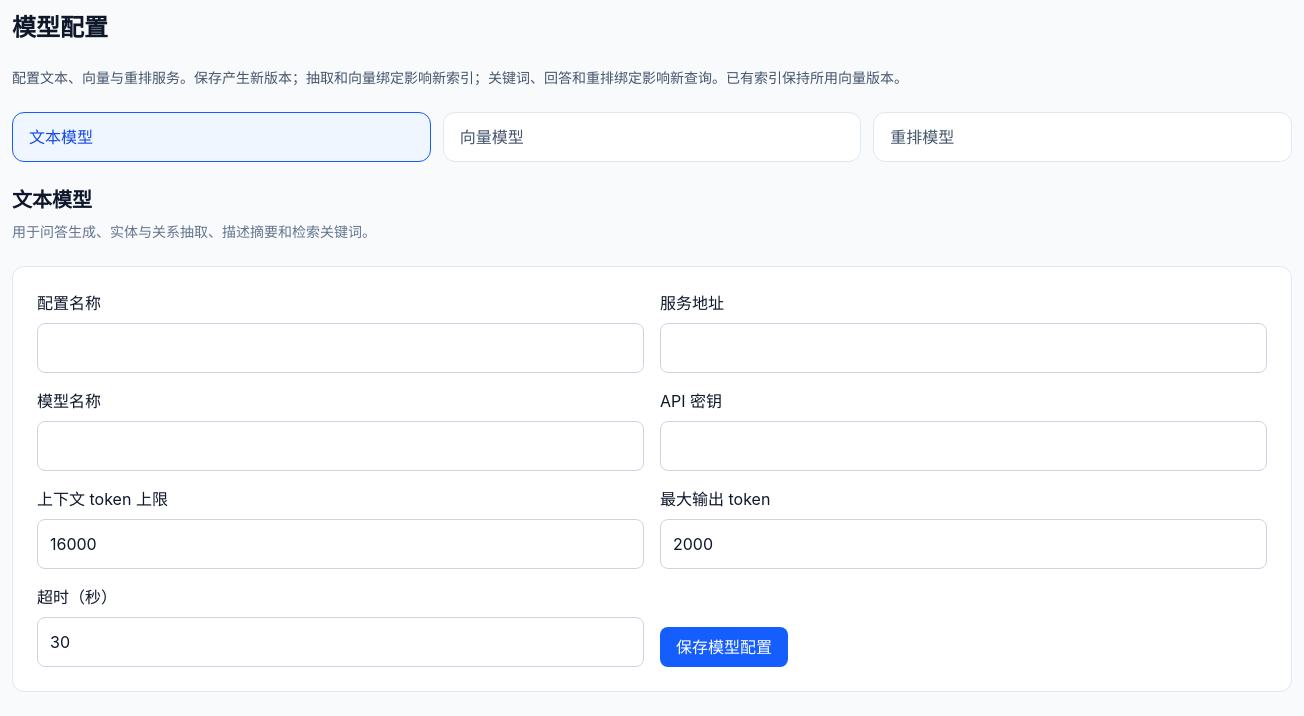
Test: creates a EMBEDDING configuration within its own category
Step 1. Click the button "向量模型" → point(492, 137), box x1=443 y1=112 x2=861 y2=162
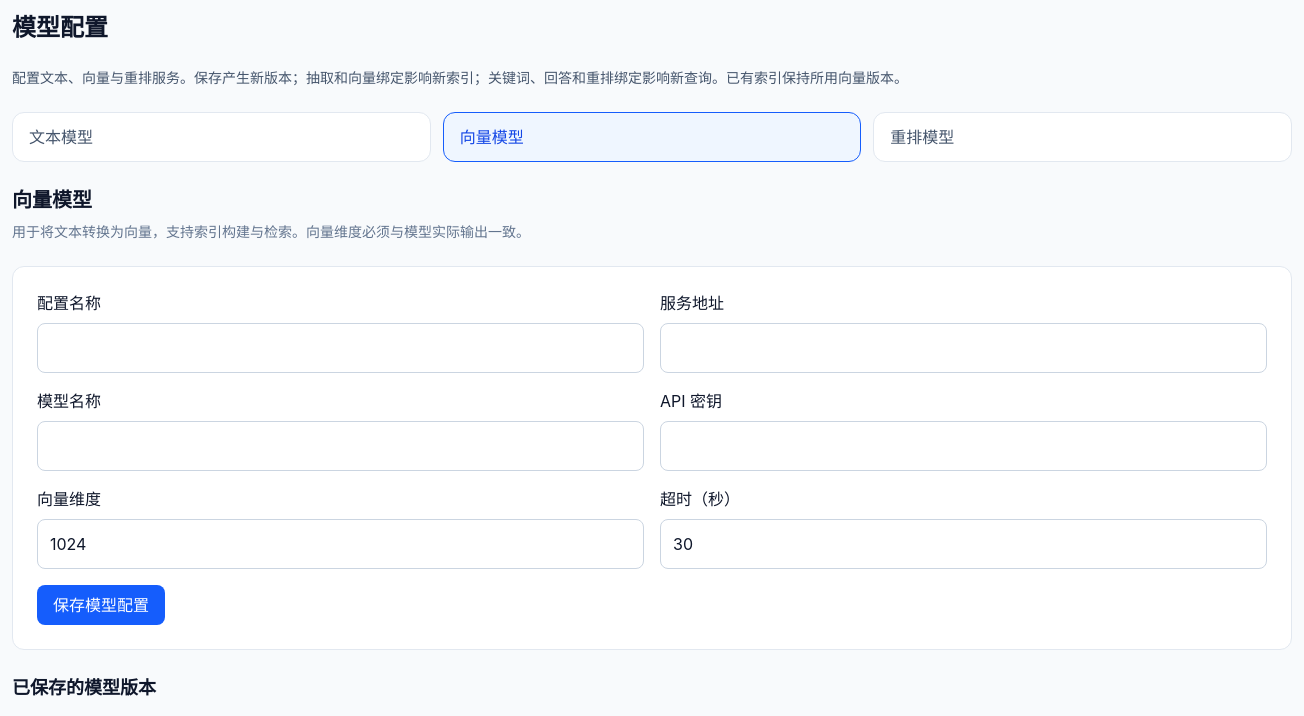
Step 2. Type "新配置" into the field labelled "配置名称" → point(340, 348), box x1=37 y1=323 x2=644 y2=373
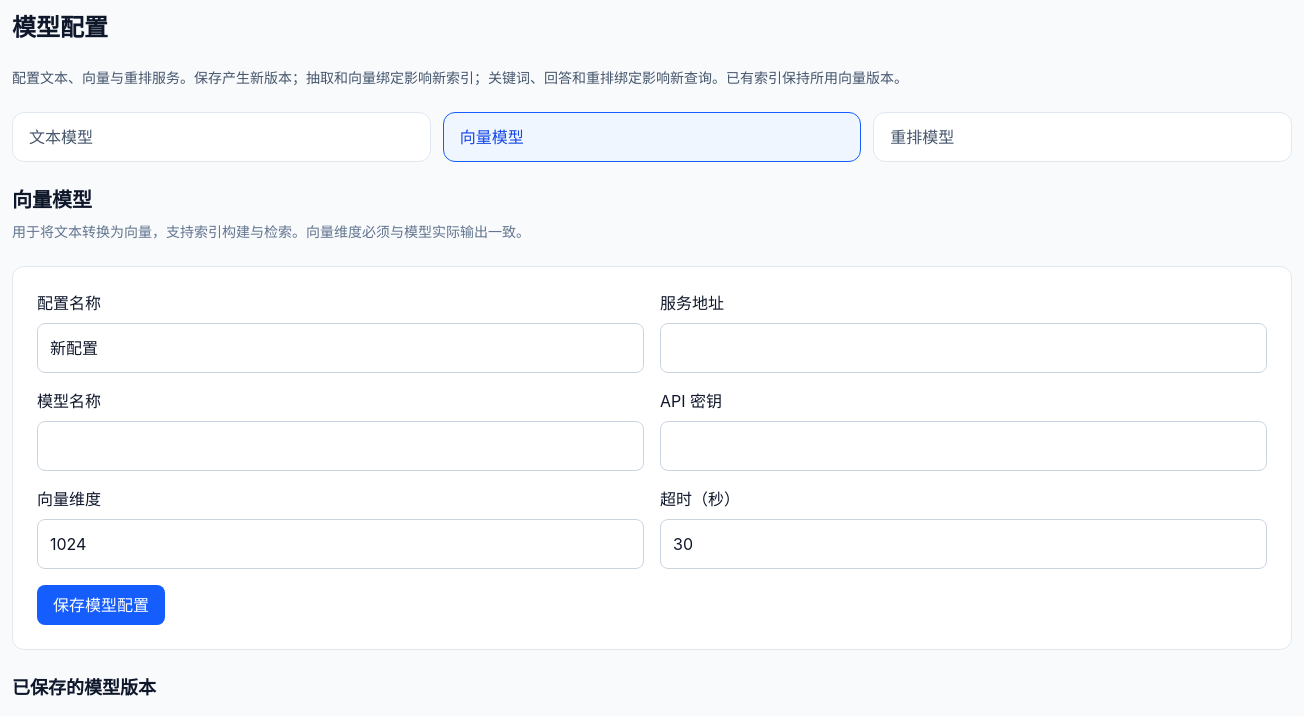
Step 3. Type "https://example.com/v1" into the field labelled "服务地址" → point(964, 348), box x1=660 y1=323 x2=1267 y2=373
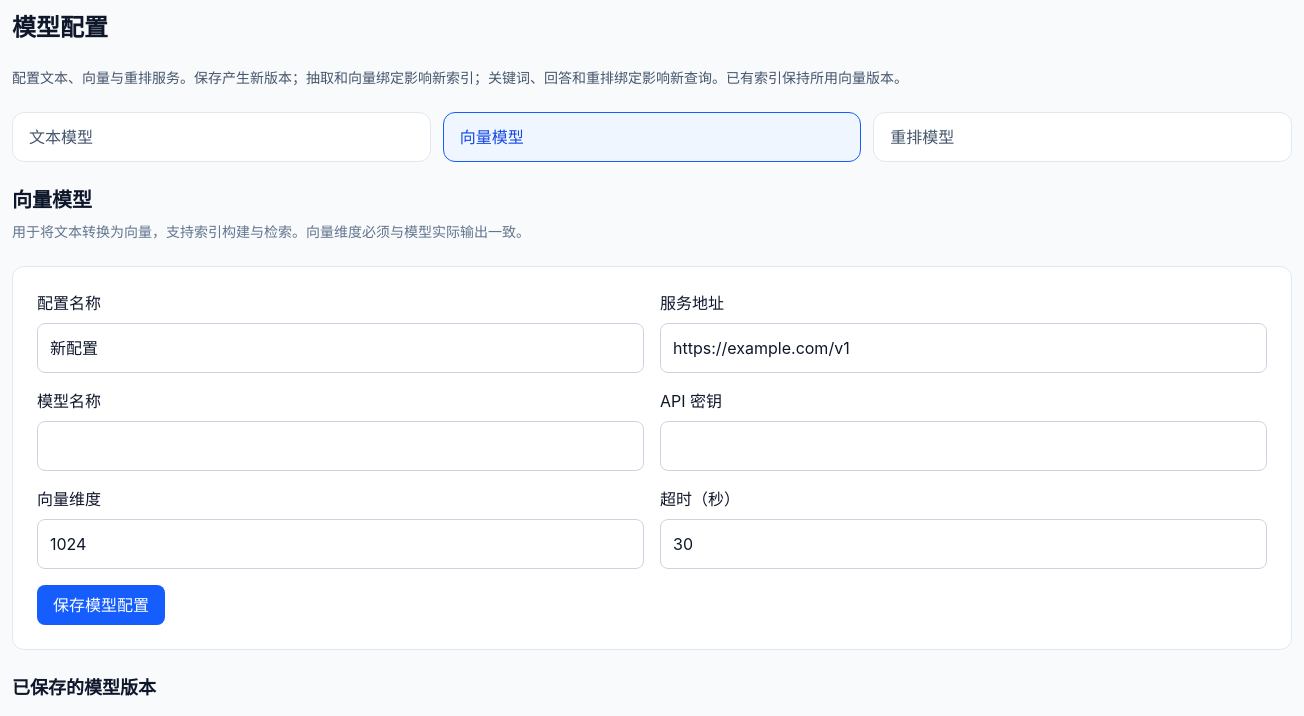
Step 4. Type "example" into the field labelled "模型名称" → point(340, 446), box x1=37 y1=421 x2=644 y2=471
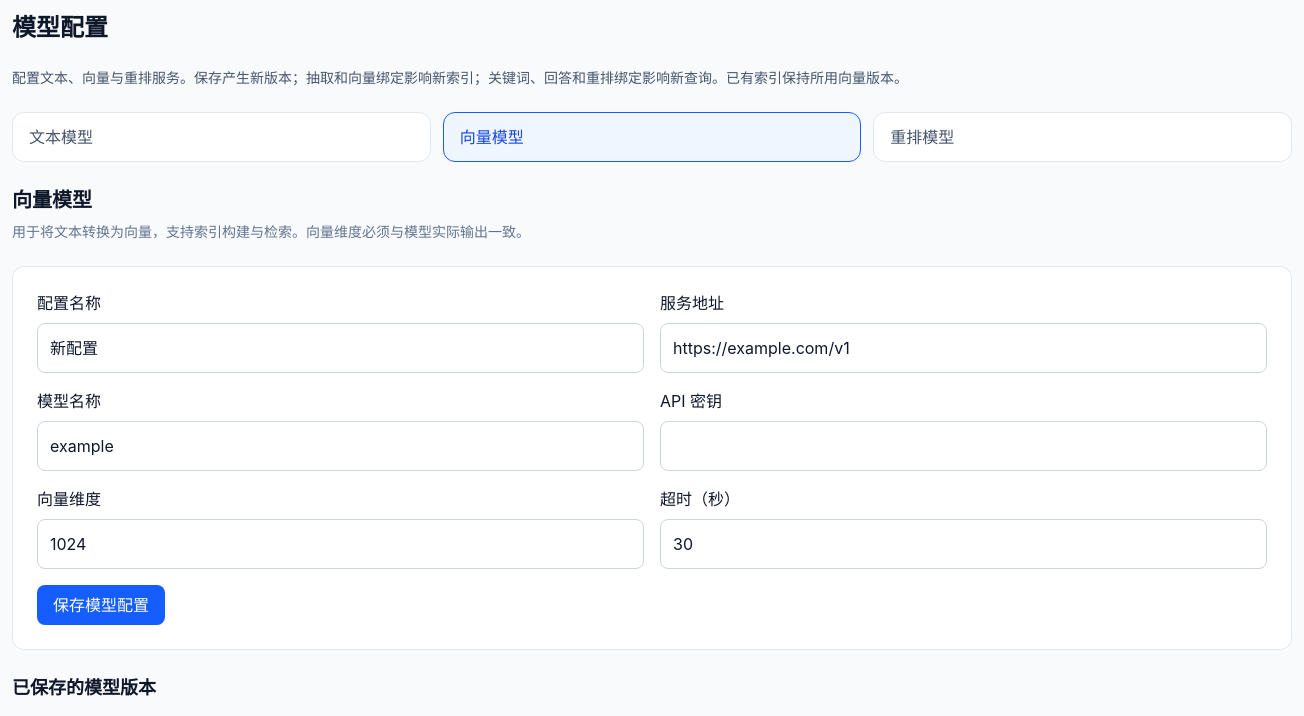
Step 5. Click the button "保存模型配置" → point(101, 605), box x1=37 y1=585 x2=165 y2=625
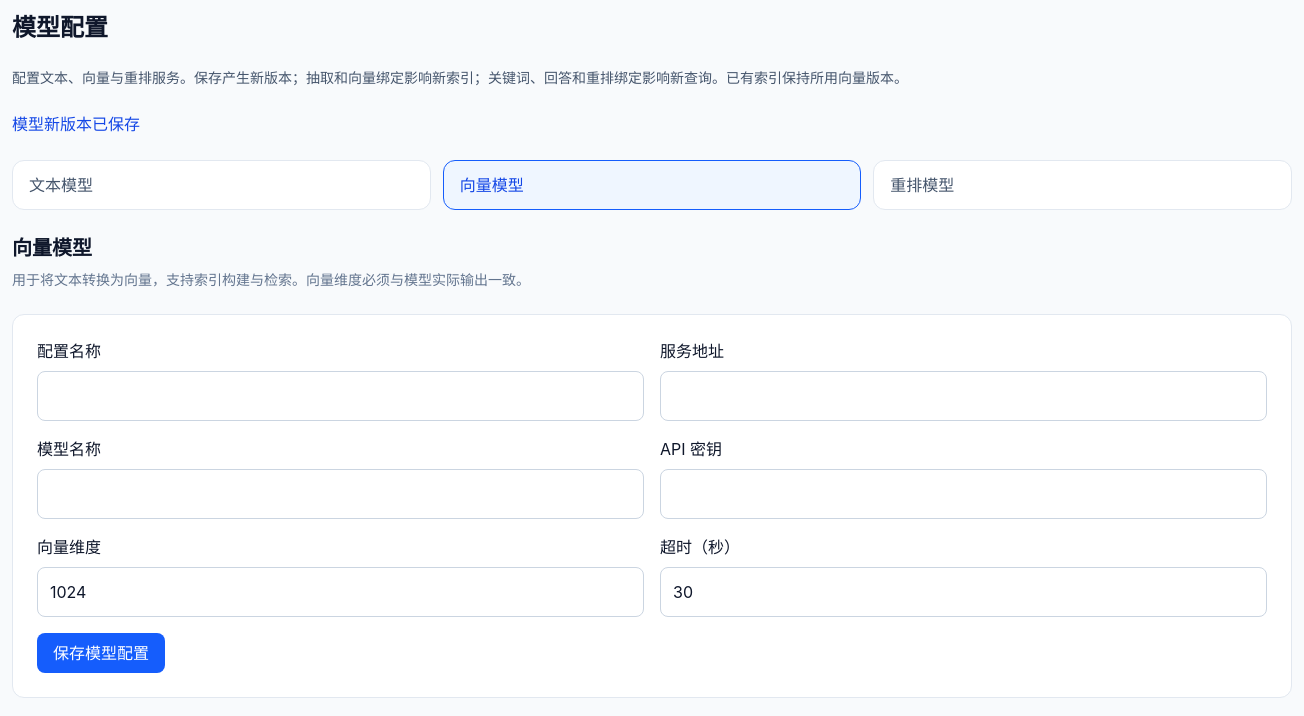
Result: the text "模型新版本已保存" is shown at x1=12 y1=114 x2=140 y2=134
